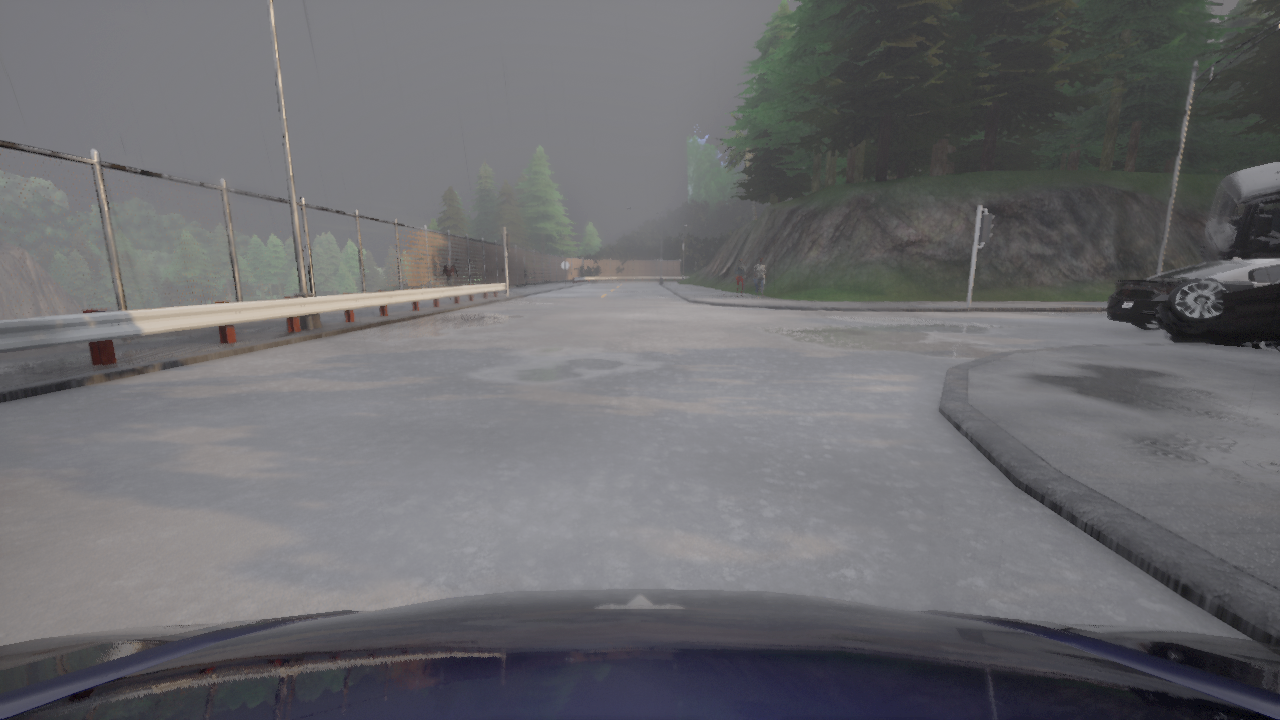cyclist: (0, 588, 1279, 719), (1106, 251, 1279, 330), (1154, 277, 1279, 352), (1201, 162, 1279, 262), (1187, 260, 1205, 266)
pedestrian: (441, 256, 459, 300), (752, 257, 767, 297), (734, 257, 744, 297)
